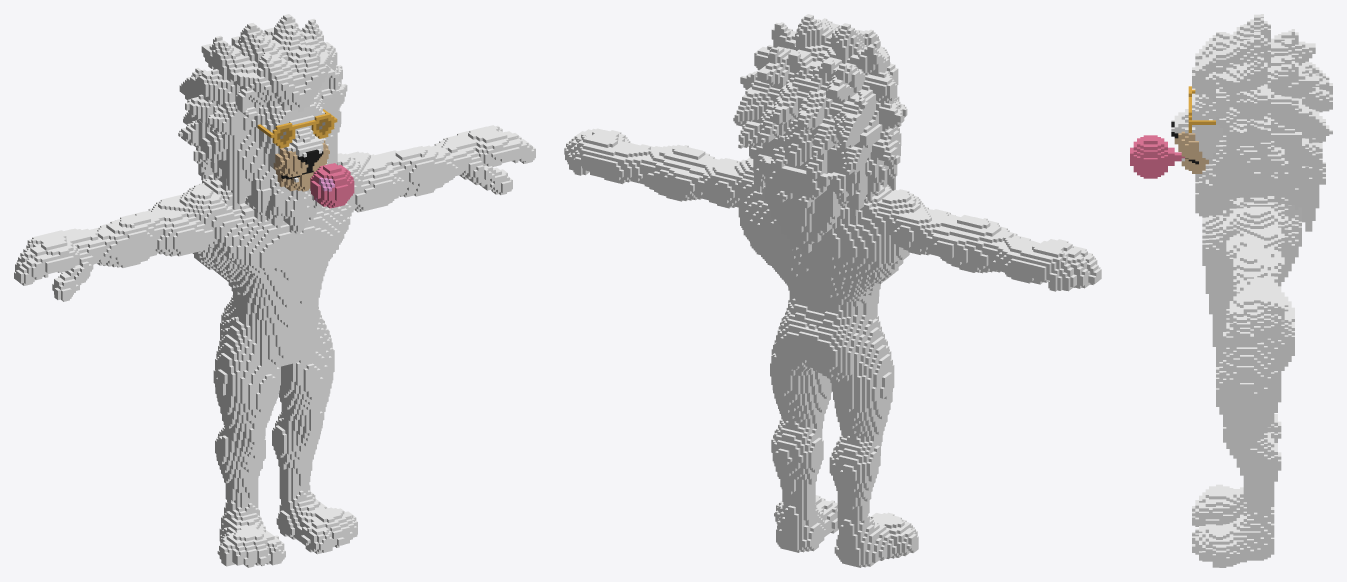
Rendered from 43-D-FlUJ_D.glb.
3 views of the same model, side by side, from view 1: azimuth 30°, elevation 25°; view 2: azimuth 150°, elevation 25°; view 3: azimuth 270°, elevation 25° (orthographic). The views are drawn at different scales.
Parts seen in each view (by area): view 1: bubble_gum; view 2: bubble_gum; view 3: bubble_gum.
Boxes of the visible parts, bbox=[...] form: bubble_gum: bbox=[14, 14, 535, 567]; bubble_gum: bbox=[564, 14, 1101, 567]; bubble_gum: bbox=[1130, 14, 1332, 567].
Size of the model in its own units: 17.2 by 16.5 by 5.9.
Materials: 4 (4 with a texture image).
